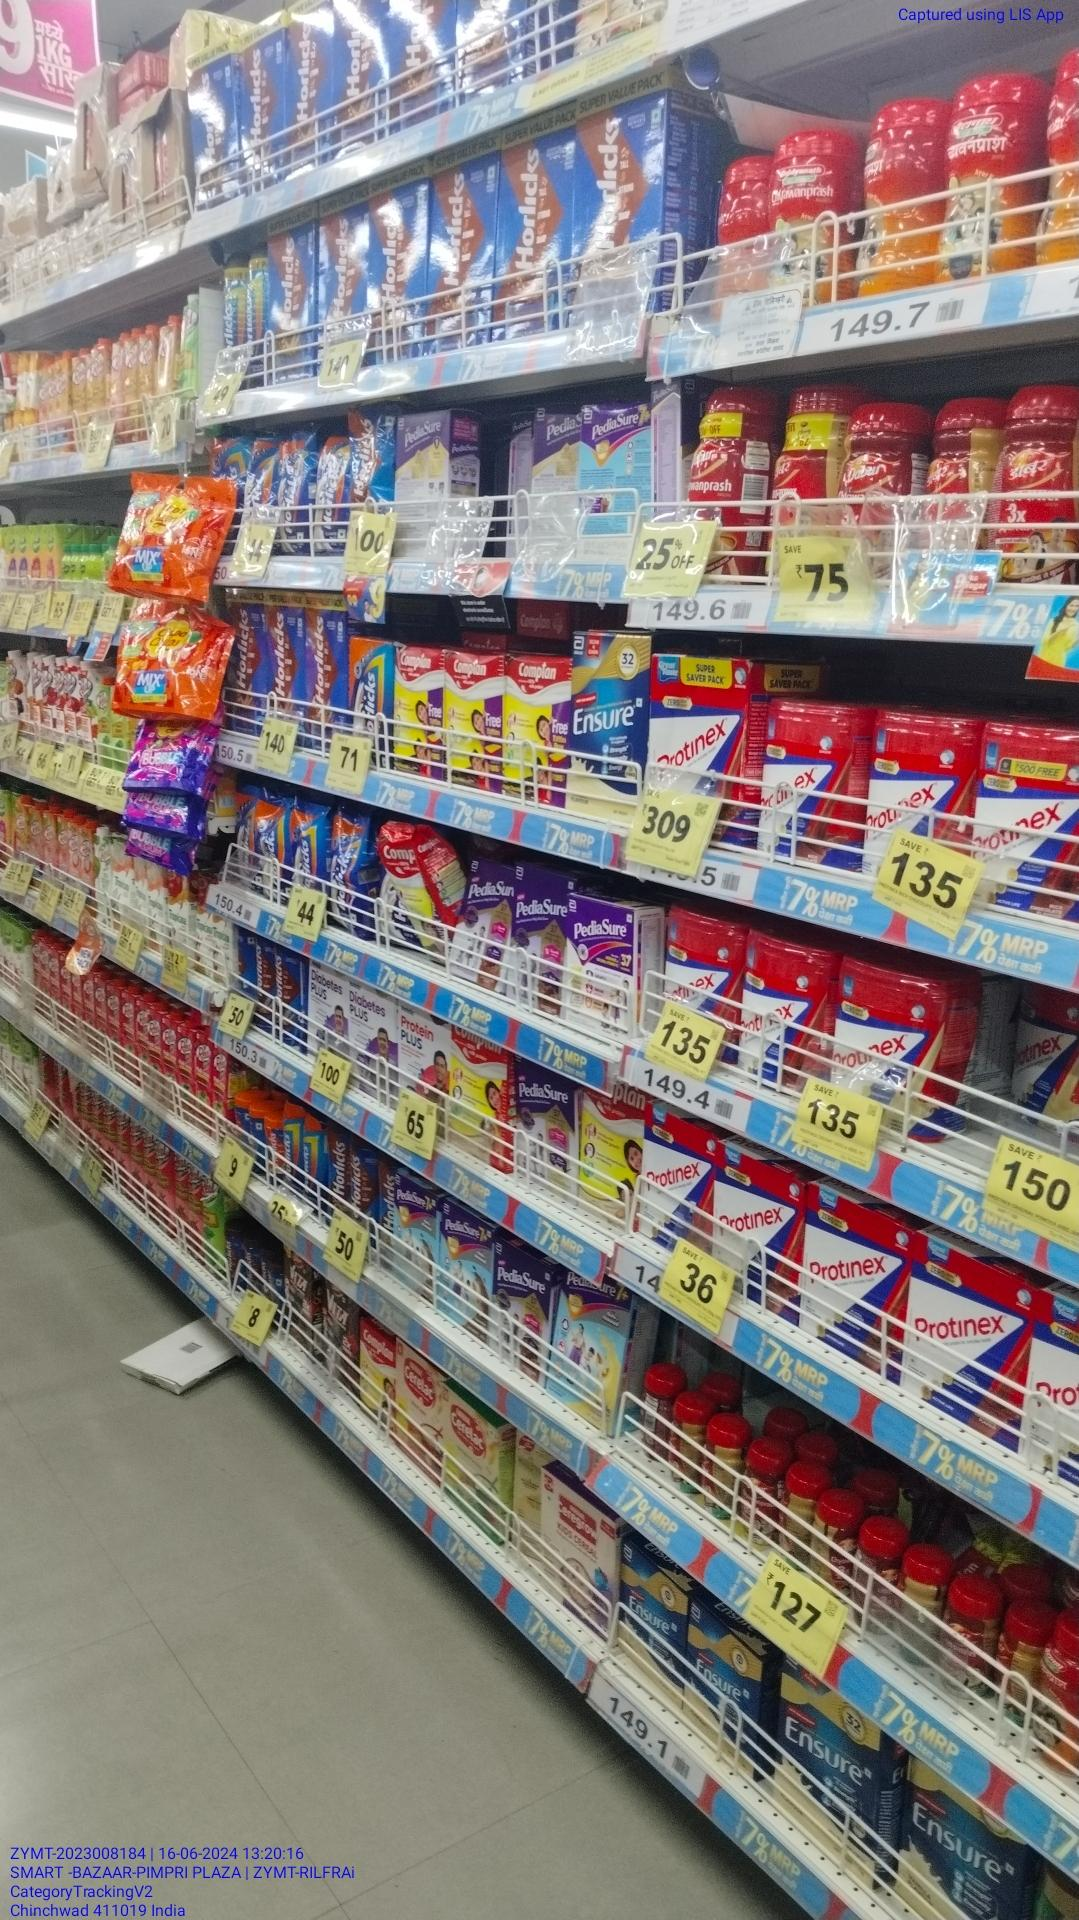HORLICK_CLASSIC_MALT_500_G_PACK: (510, 1064, 571, 1187), (347, 636, 397, 741)
PEDIASURE_7_PLUS_CHOCOLATE_400_G_PACK: (435, 1209, 501, 1324), (394, 1168, 430, 1287)
PEDIASURE_CHOCOLATE_500_G_PACK: (517, 858, 567, 1011), (459, 852, 512, 990), (493, 1265, 555, 1365)
PROTINEX_CHOCOLATE_400_G_JAR: (980, 721, 1079, 914), (764, 707, 863, 870), (863, 713, 976, 853), (740, 947, 831, 1071), (657, 916, 745, 1015)
